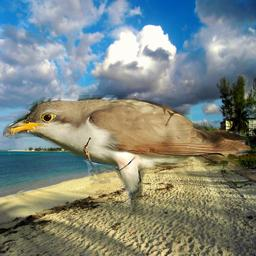Cuckoo: (3, 95, 256, 215)
